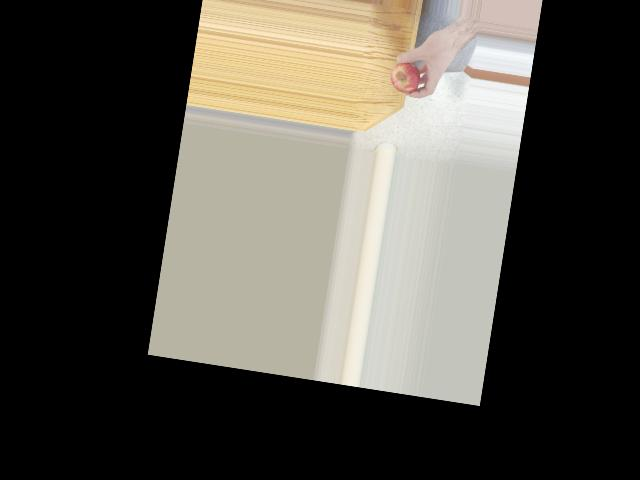apple: (388, 58, 422, 96)
